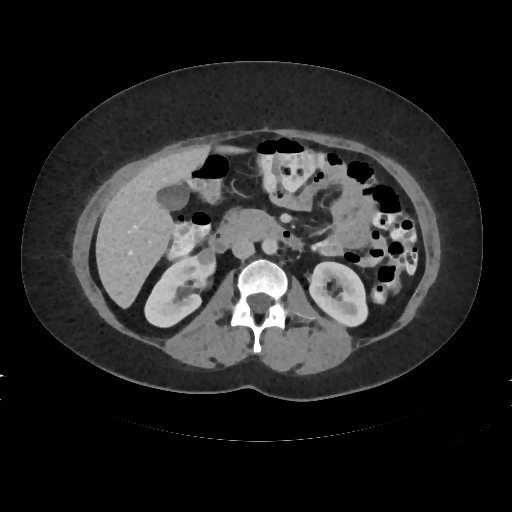Lesion: (193, 244, 218, 269)
